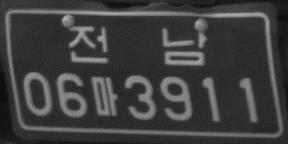0: (22, 69, 53, 117)
1: (232, 76, 263, 123), (197, 76, 225, 123)
3: (124, 74, 157, 119)
6: (56, 72, 87, 118)
9: (159, 75, 192, 121)
마: (90, 76, 118, 116)
전남_D: (68, 24, 207, 66)
